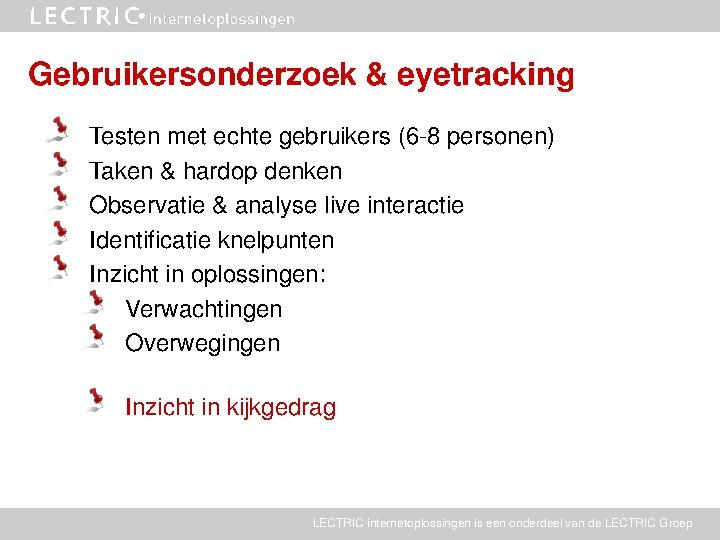paragraph: (43, 114, 576, 445)
title: (29, 49, 592, 104)
